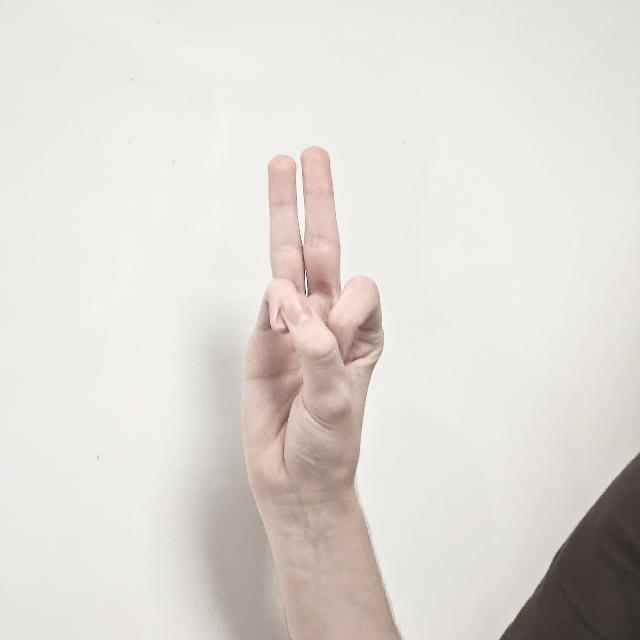R: (241, 144, 385, 514)
